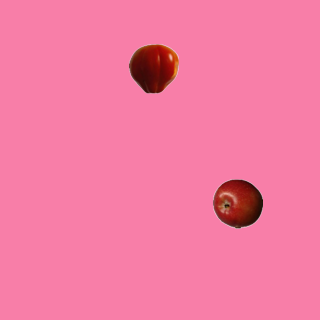Apple Braeburn: (212, 178, 262, 228)
Tomato 1: (128, 43, 178, 93)
